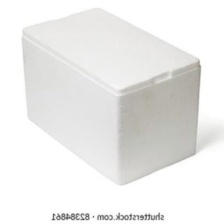foam_box: (15, 3, 205, 188)
